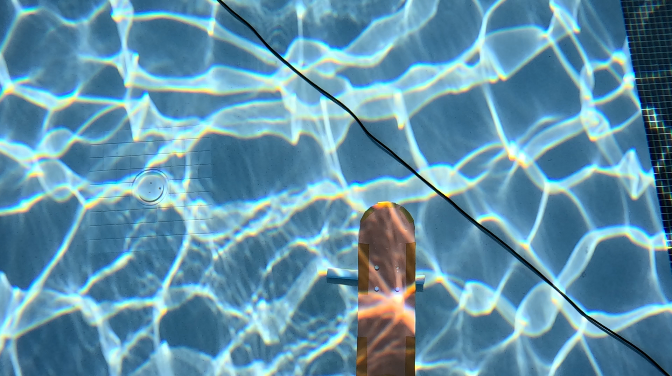pathmarker: (357, 202, 415, 375)
